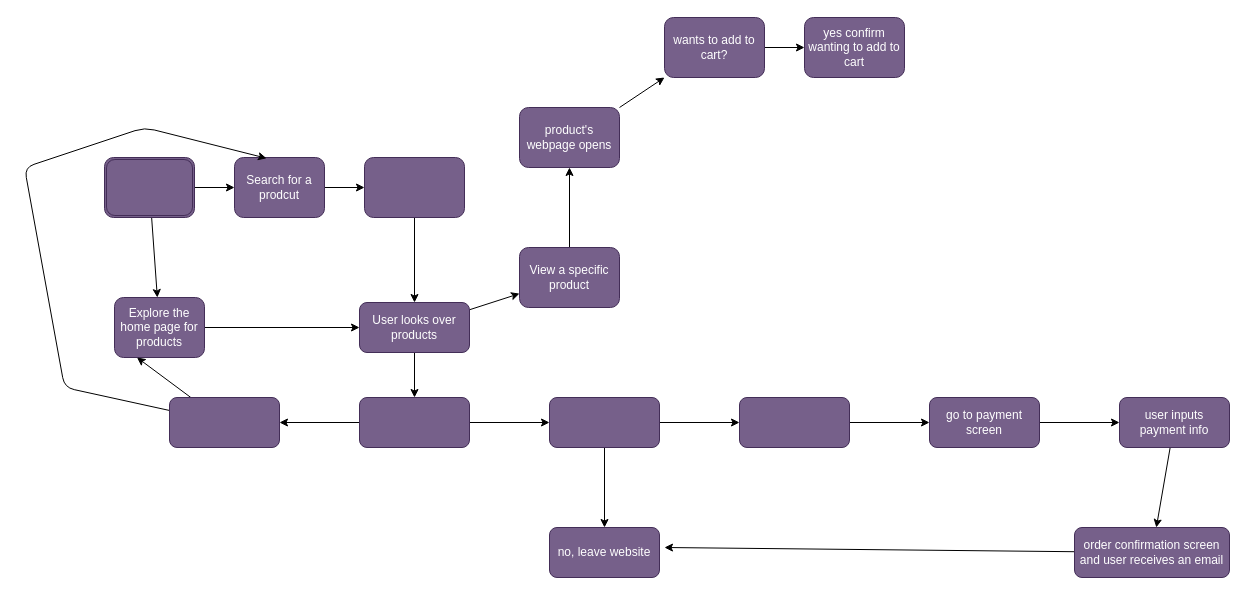
The diagram is 1247 pixels wide and 595 high, and some of its shapes have lost their labels. Here are the shapes that lost their labels. From the top down, the centre of each, then its label:
At (x=149, y=187): "User Enters Website".
At (x=414, y=187): "User provides input about their search".
At (x=224, y=422): "yes".
At (x=414, y=422): "contunue shopping?".
At (x=604, y=422): "no, check out?".
At (x=794, y=422): "yes, go to view cart screen".
